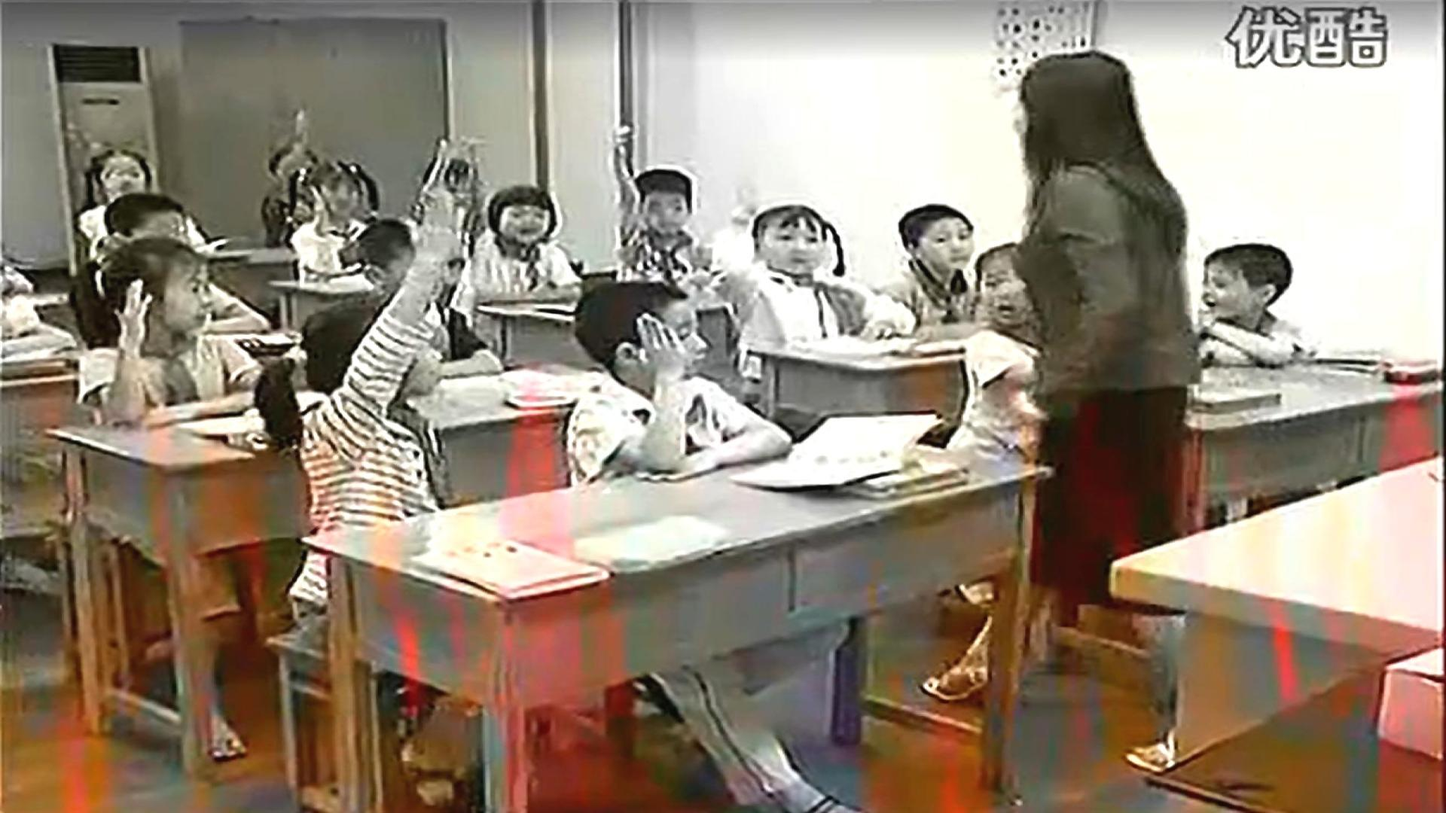Look Around: (1201, 242, 1288, 349), (981, 250, 1006, 311)
Stand Up: (1012, 57, 1178, 635)
Wave: (379, 204, 454, 403), (628, 321, 694, 467), (112, 283, 161, 426), (603, 127, 658, 219), (726, 178, 761, 297), (269, 106, 310, 199)
